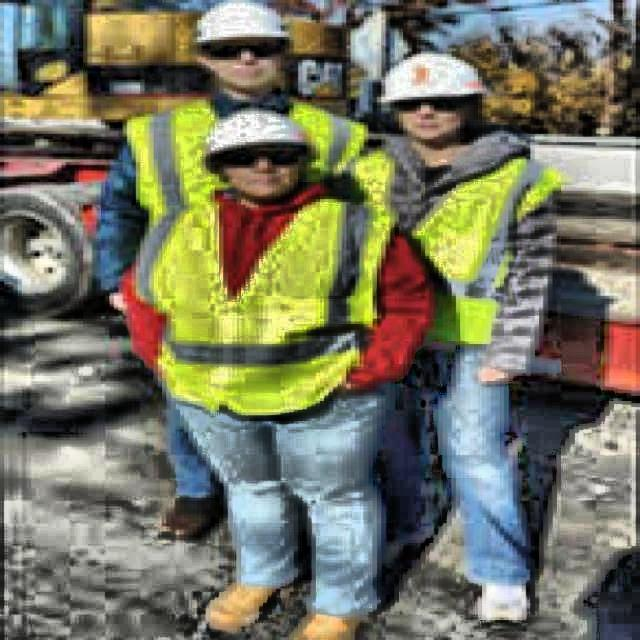bull_dozer/loader/grader: (1, 0, 347, 317)
person: (125, 105, 432, 640), (93, 0, 369, 542), (347, 50, 562, 626)
